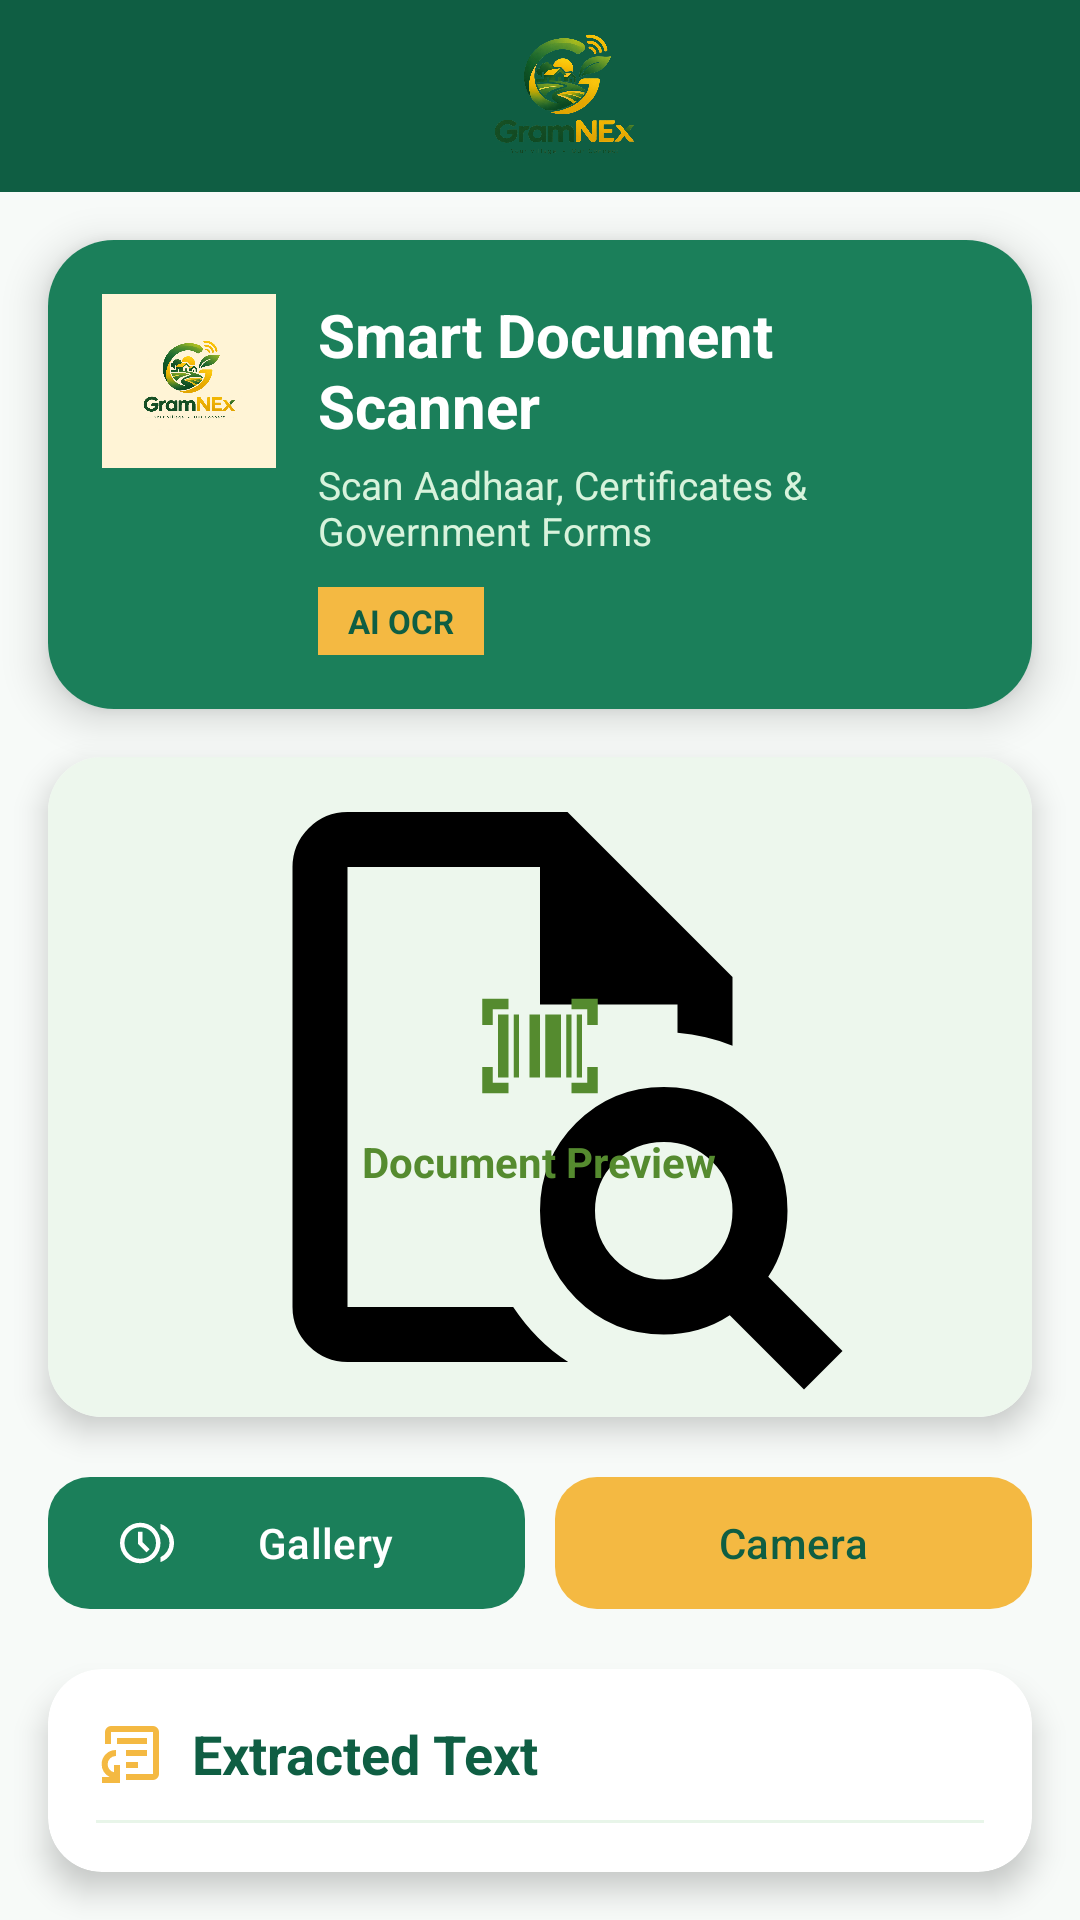

Point at icon controls on the screen. Image size 1080×1920, points as point (x, y).
scan: point (540, 1046)
